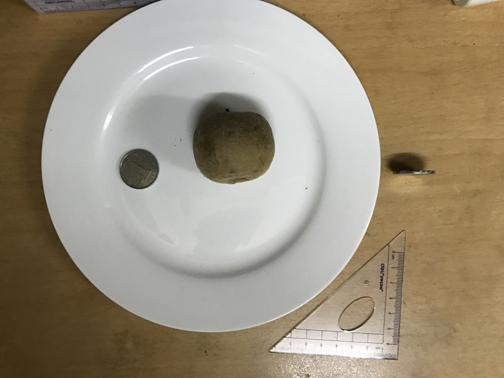coin: (119, 149, 159, 190)
qiwi: (190, 110, 274, 182)
